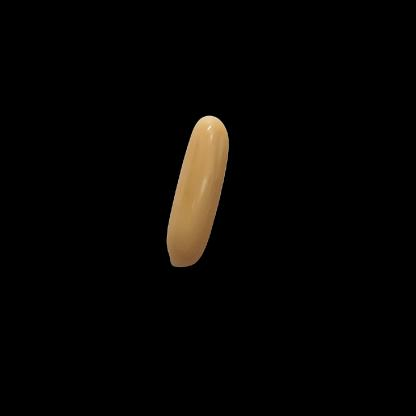t-muse: (161, 99, 237, 278)
